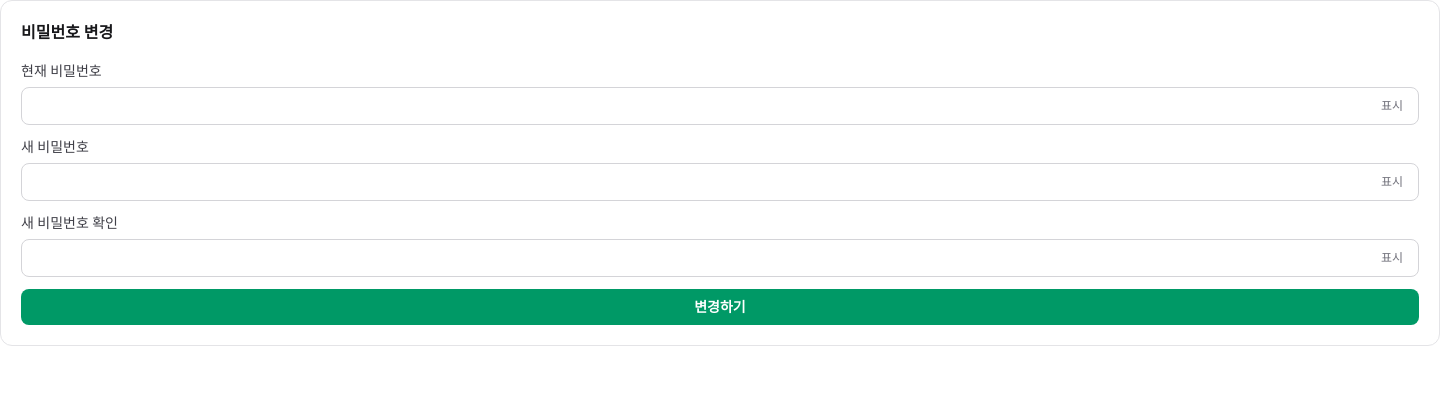
Test case: PasswordForm — change mode (existing password): current password, new password, confirm › posts { currentPassword, newPassword } to /api/auth/password/change with no step-up involved
Type "oldpassword1" into the password field labelled "현재 비밀번호" at [720, 106], box [21,87,1419,125]
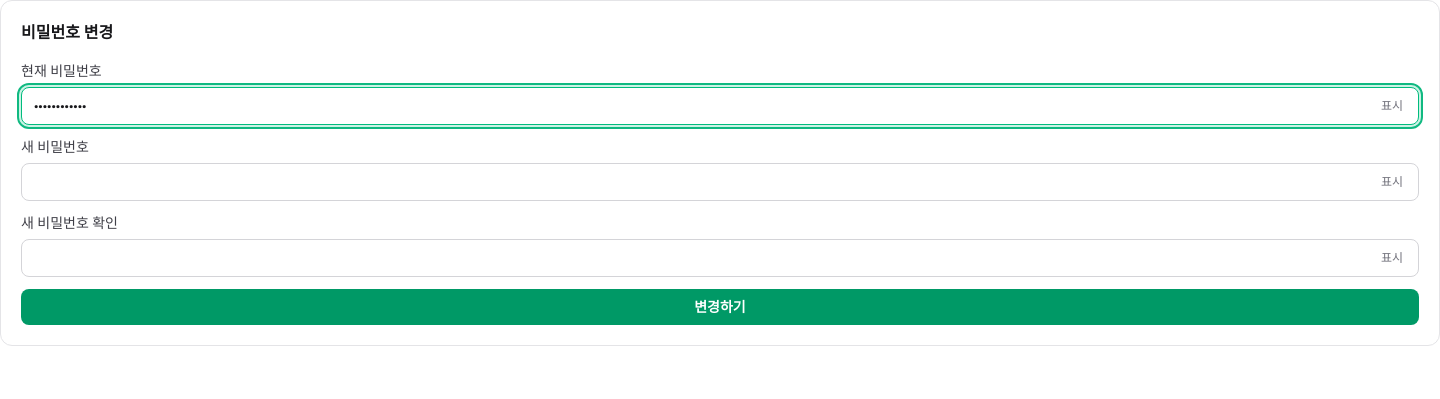
Type "newpassword1" into the password field labelled "새 비밀번호" at [720, 182], box [21,163,1419,201]
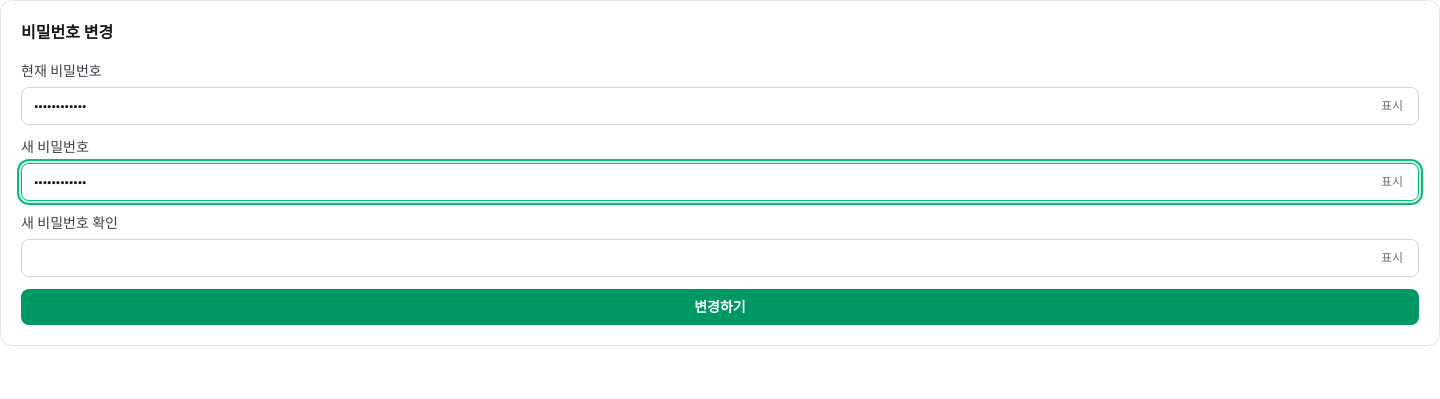
Type "newpassword1" into the password field labelled "새 비밀번호 확인" at [720, 258], box [21,239,1419,277]
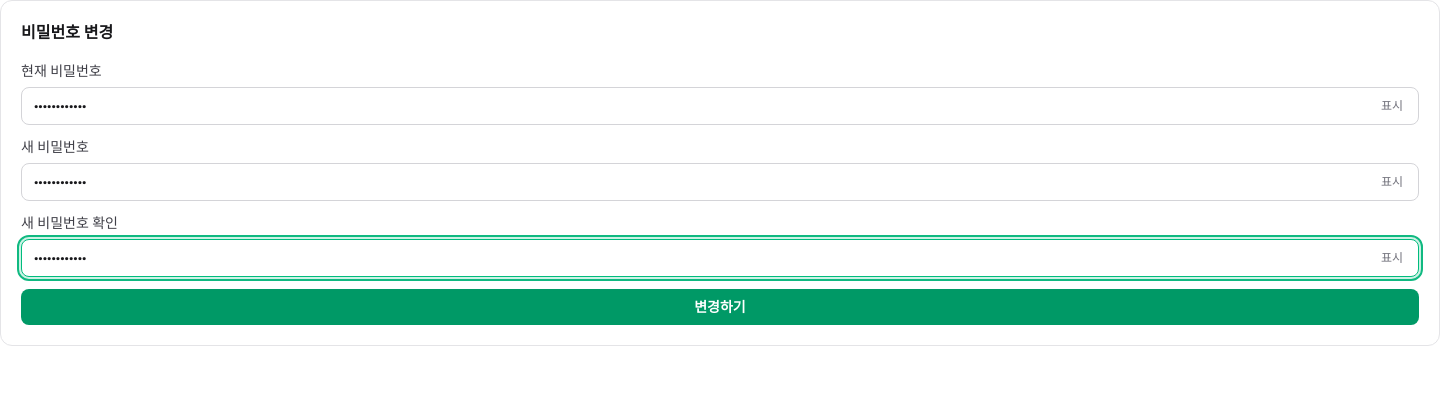
Click the button "변경하기" at [720, 307], box [21,289,1419,325]
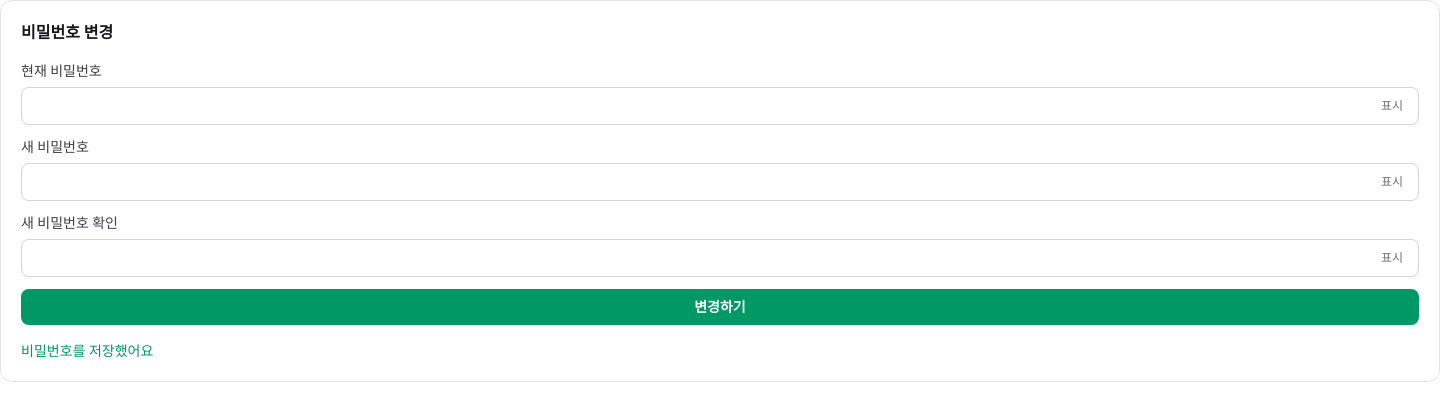
Expected: the text "비밀번호를 저장했어요" is shown, [21,342,153,360]
